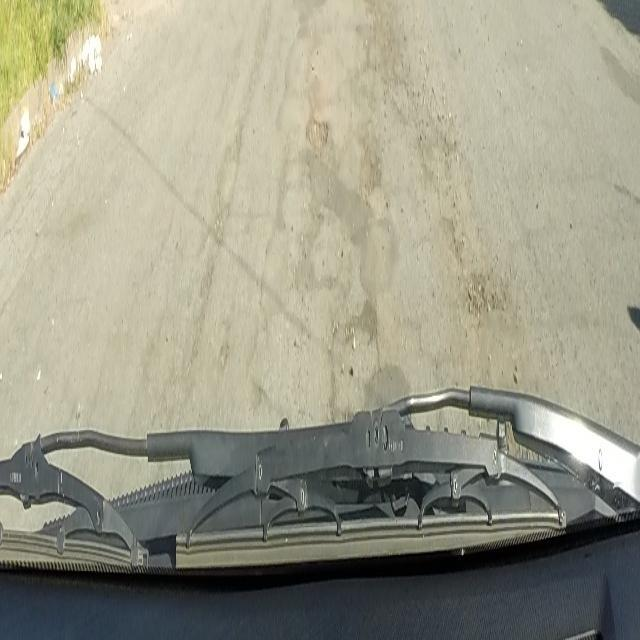pothole: (468, 271, 496, 321), (306, 109, 328, 157)
